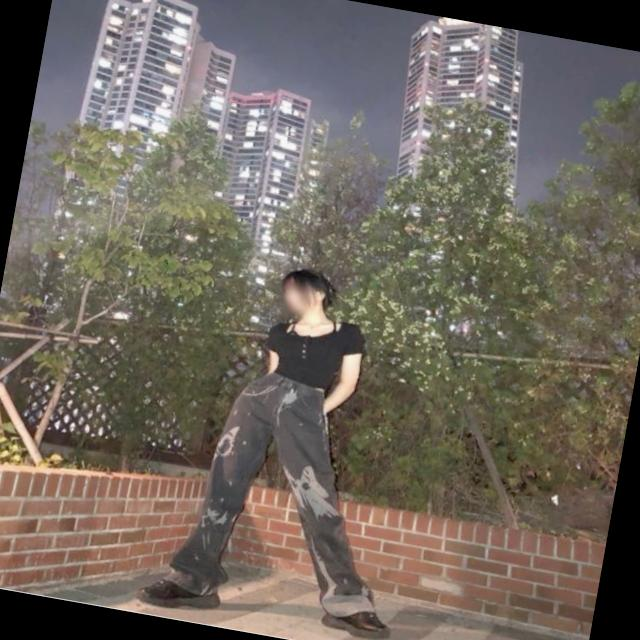denimpants: (160, 354, 420, 626)
shortsleeve: (255, 310, 368, 394)
